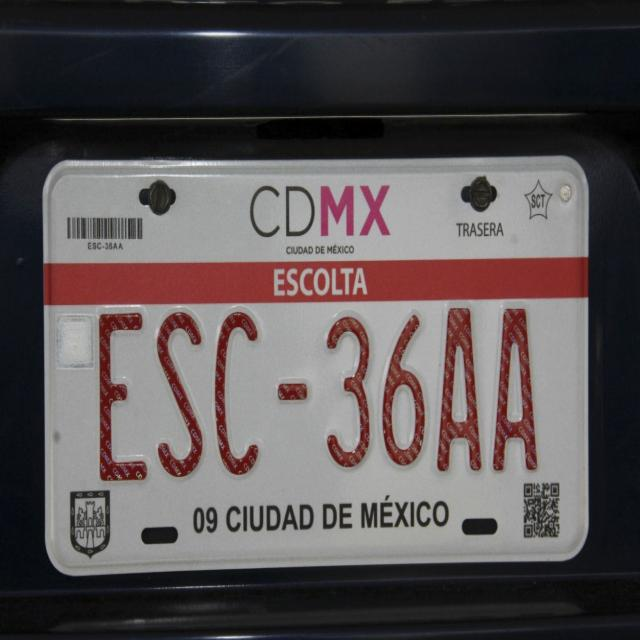placa: (89, 303, 547, 488)
